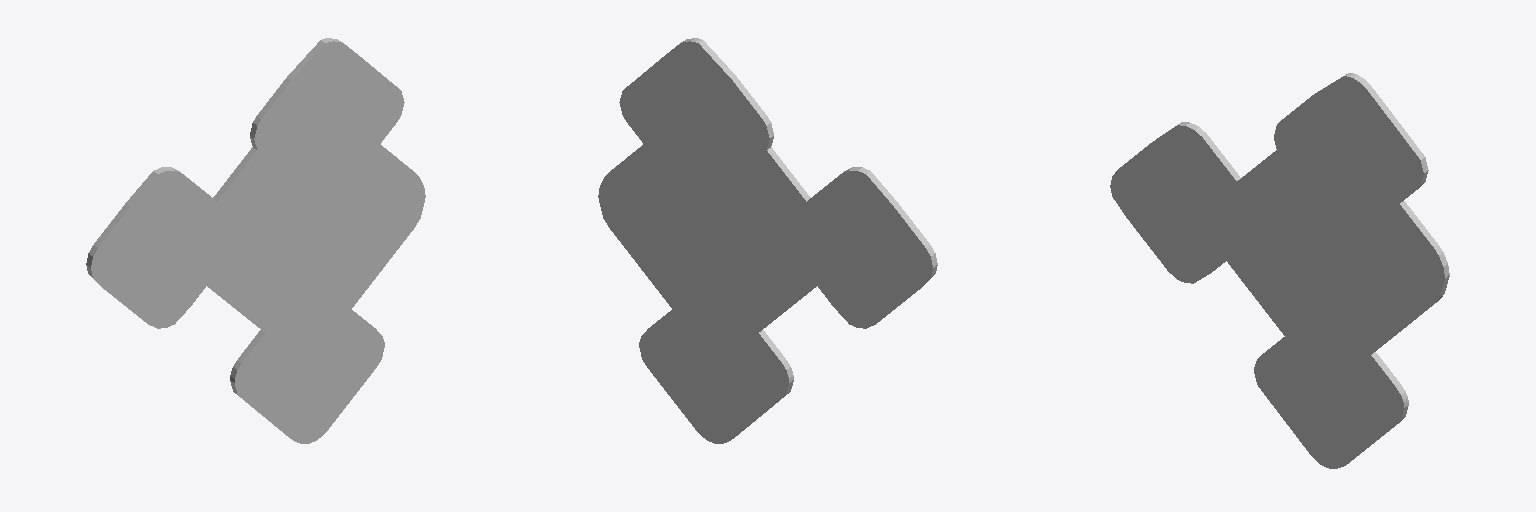
Rendered from Leaf_5.obj.
The picture shows the model from 3 angles: view 1: azimuth 30°, elevation 25°; view 2: azimuth 150°, elevation 25°; view 3: azimuth 330°, elevation 25°; orthographic projection.
Parts seen in each view (by area): view 1: Leaf5; view 2: Leaf5; view 3: Leaf5.
Boxes of the visible parts, x1,y1,x2,y2 form: Leaf5: [86, 38, 425, 443]; Leaf5: [598, 38, 937, 443]; Leaf5: [1110, 73, 1449, 468].
Bounding box in the file's own units: 45.04 × 50.98 × 1.08.